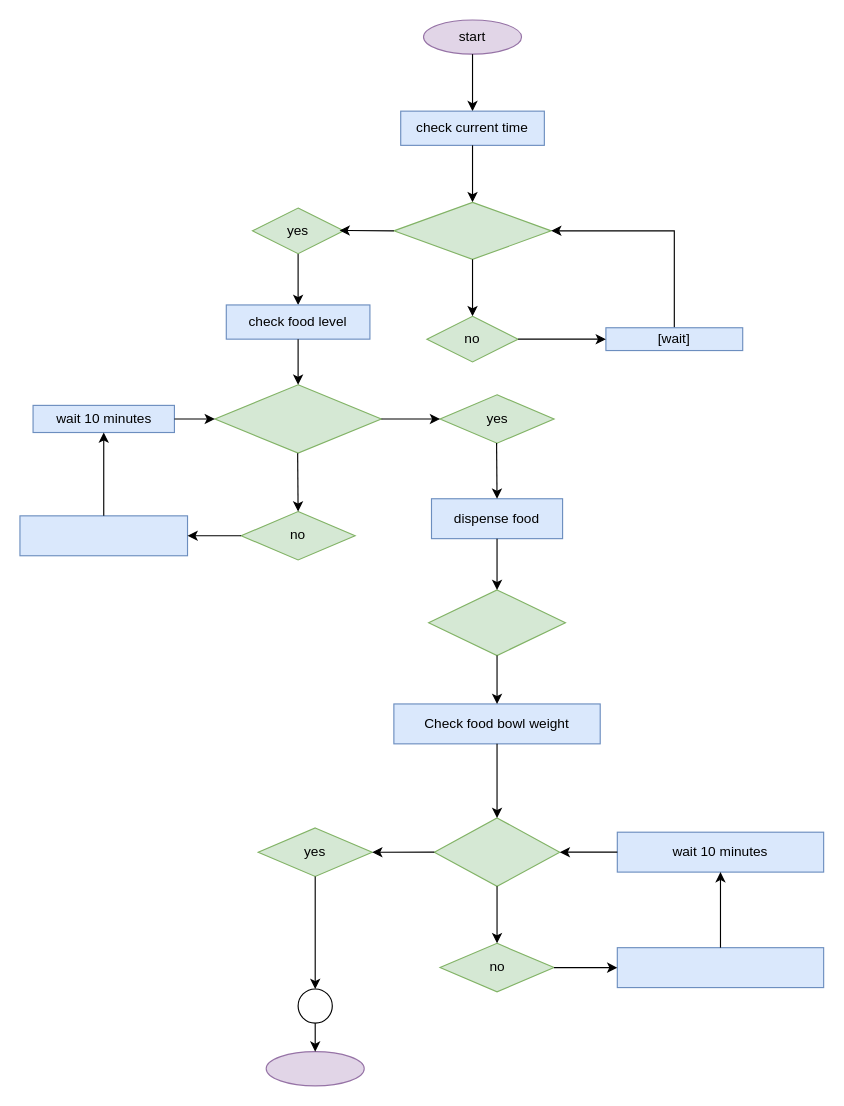
Image size: 844x1106. Some labels were removed from this diagram. The shapes that lost their labels are listed below. From the top down, each one's box as (x1, y1, x2, y2) in pixels, then its label:
(393, 201, 551, 259): is it feeding time?
(214, 384, 381, 453): is food available?
(19, 515, 188, 556): trigger empty food alert
(427, 589, 565, 656): Wait 15 minutes
(433, 817, 560, 886): Was food eaten?
(616, 947, 824, 988): trigger 'food not eaten' alert
(265, 1051, 364, 1086): end
